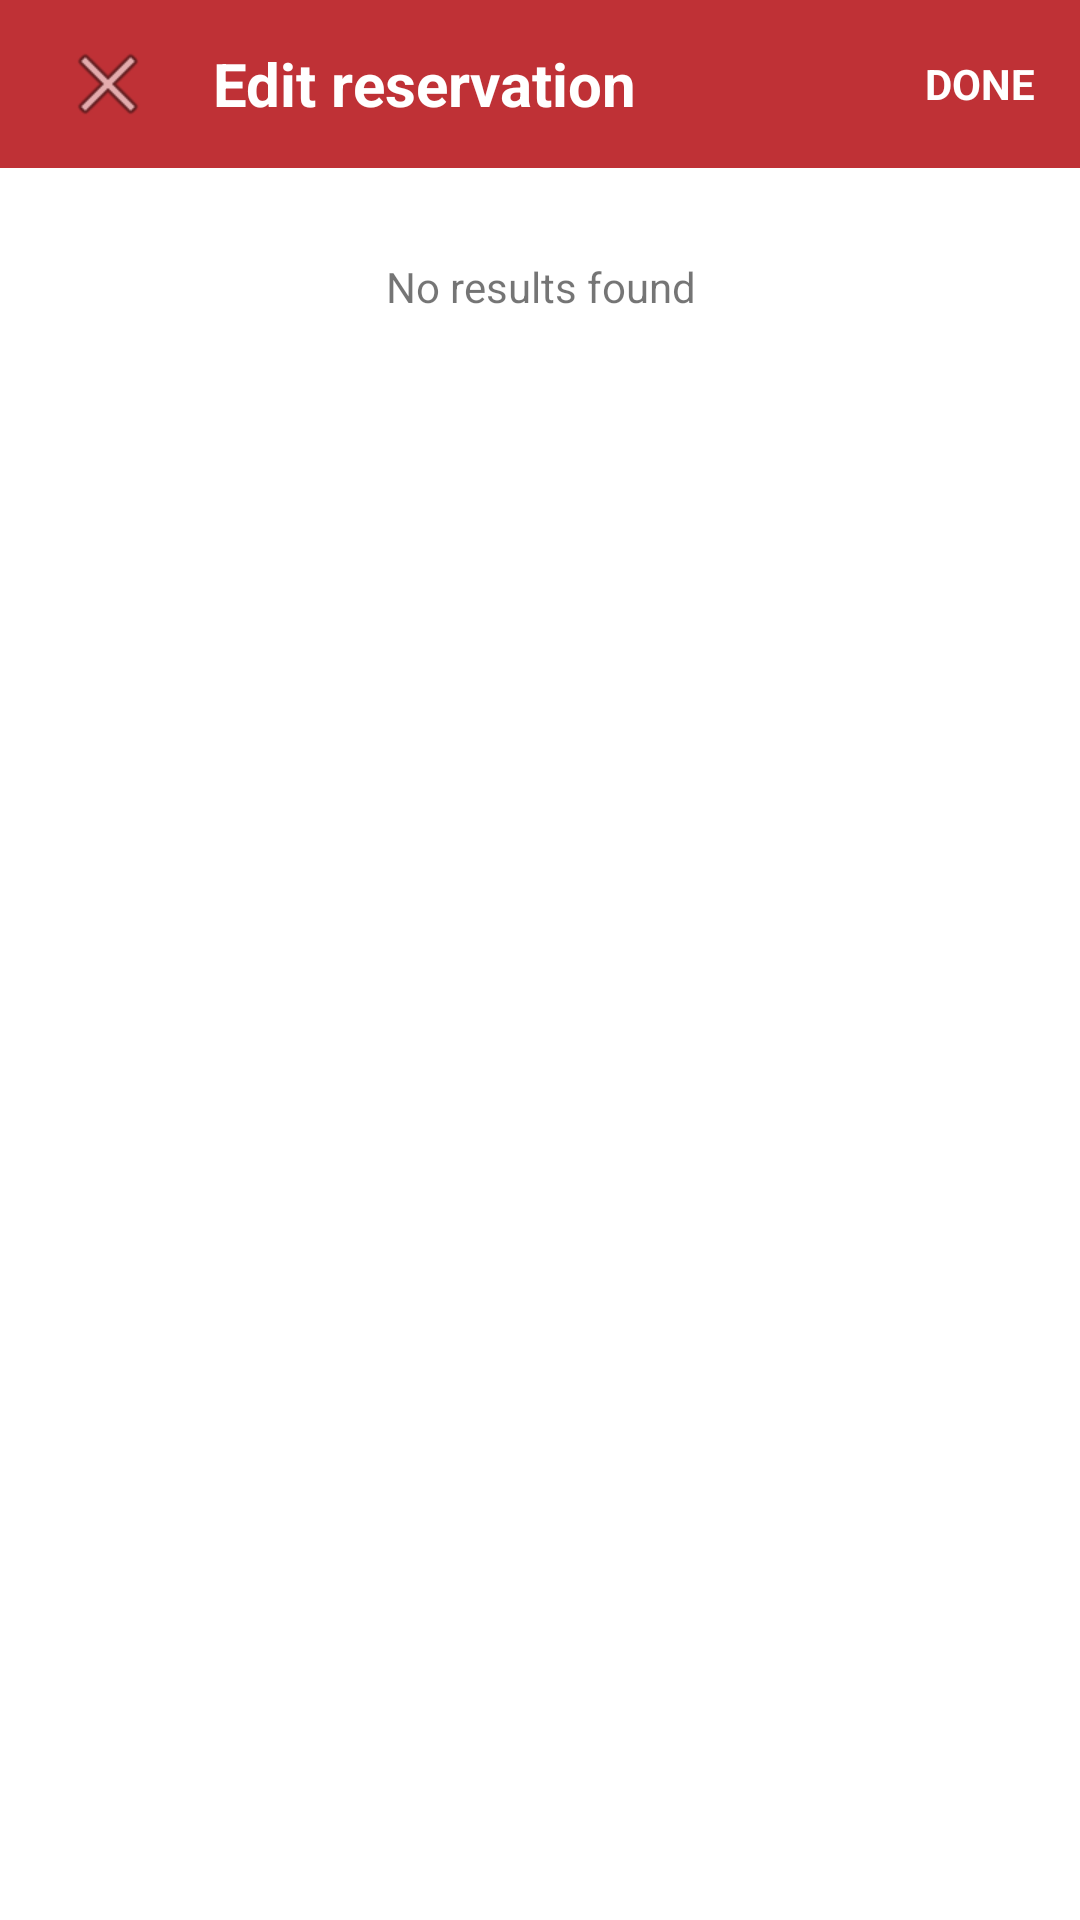

Where icons sit on this 1080x1920 app screen, as [x1=x1, y1=y1, x2=x2, y2=y2]:
close clear cancel: [x1=78, y1=54, x2=138, y2=114]
